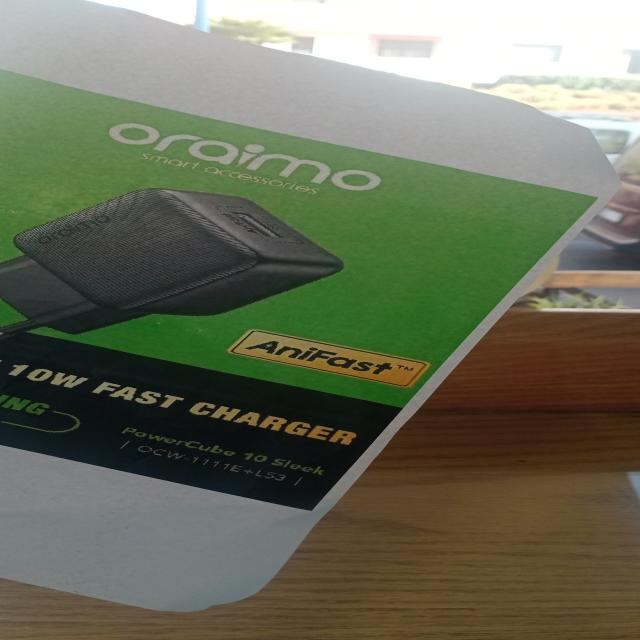PowerCube 10 Sleek OCW-1111ExL53: (105, 418, 345, 490)
